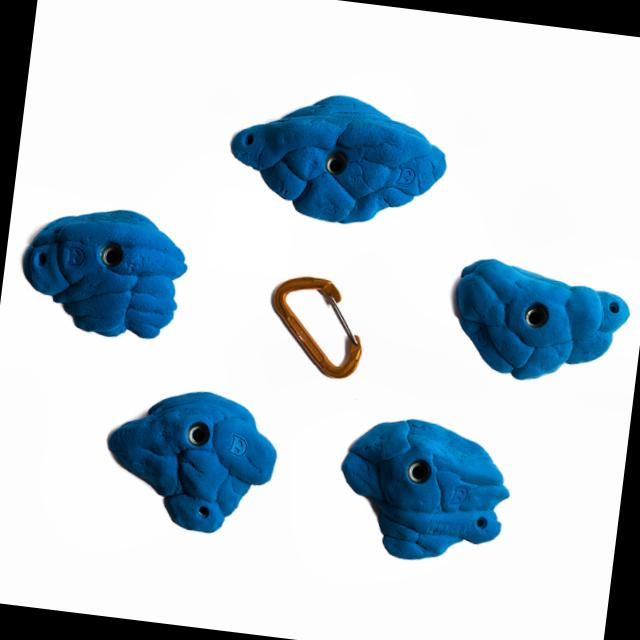Hold: (218, 76, 456, 232), (325, 409, 523, 576), (97, 375, 286, 541), (12, 194, 190, 347), (442, 258, 628, 392)
